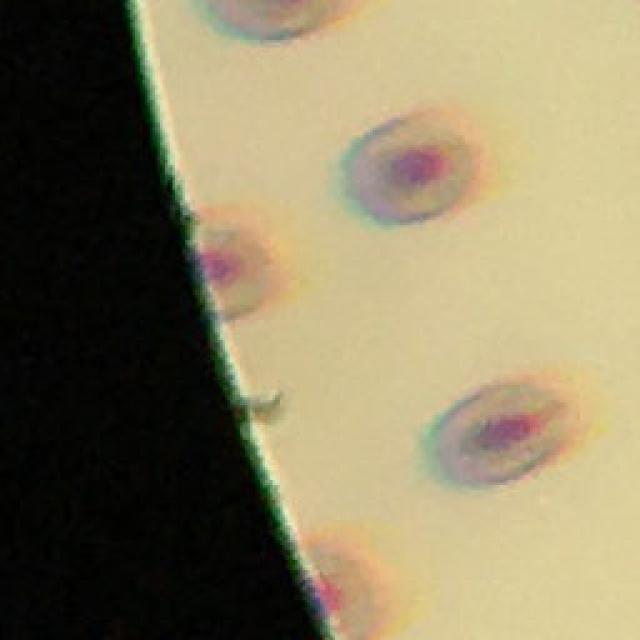RBC: (344, 118, 479, 221), (434, 384, 577, 480), (198, 206, 286, 321)
